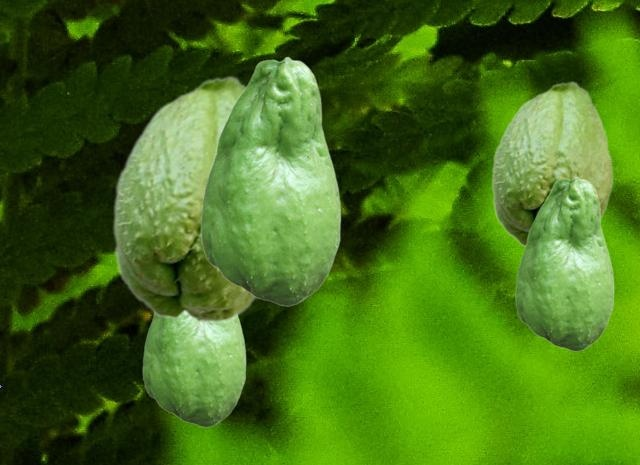sayote: (112, 74, 257, 323), (200, 56, 340, 305), (491, 80, 613, 247), (515, 176, 613, 350), (142, 316, 245, 426)
